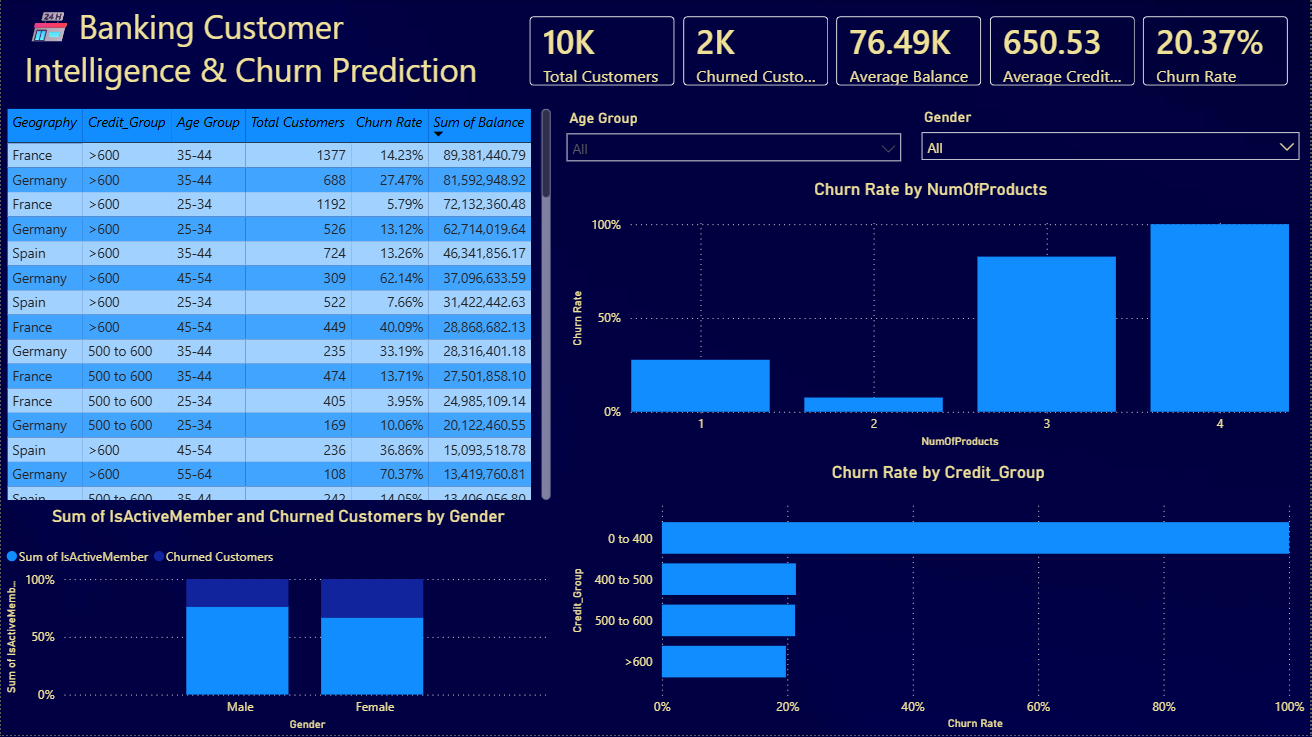

Layout of this report page (visuals, bound fields, positions):
{"tool":"powerbi","page":{"name":"Dashboard2","canvas":[1280,720],"ordinal":5},"visuals":[{"type":"cardVisual","fields":{"Data":["Churn_Modelling.Total Customers","Churn_Modelling.Churned Customers","Churn_Modelling.Average Balance","Churn_Modelling.Average Credit Score","Churn_Modelling.Churn Rate"]},"box":[500.1,0,780.2,102.7],"z":0},{"type":"slicer","fields":{"Values":["Churn_Modelling.Age Group"]},"box":[542.5,102.5,347.5,62.5],"z":1000},{"type":"slicer","fields":{"Values":["Churn_Modelling.Gender"]},"box":[890,101.2,390.1,63.6],"z":2000},{"type":"textbox","box":[18.3,0,470.8,165.1],"z":3000},{"type":"barChart","fields":{"Category":["Churn_Modelling.Credit_Group"],"Y":["Churn_Modelling.Churn Rate"]},"box":[553.8,452.5,726.2,267.5],"z":4000},{"type":"columnChart","fields":{"Category":["Churn_Modelling.NumOfProducts"],"Y":["Churn_Modelling.Churn Rate"]},"box":[553.8,176.2,711.2,267.5],"z":5000},{"type":"tableEx","fields":{"Values":["Churn_Modelling.Geography","Churn_Modelling.Credit_Group","Churn_Modelling.Age Group","Churn_Modelling.Total Customers","Churn_Modelling.Churn Rate","Sum(Churn_Modelling.Balance)"]},"box":[0,102.5,542.5,392.5],"z":6001},{"type":"hundredPercentStackedColumnChart","fields":{"Category":["Churn_Modelling.Gender"],"Y":["Sum(Churn_Modelling.IsActiveMember)","Churn_Modelling.Churned Customers"]},"box":[0,495,542.5,225],"z":6002}]}

Visuals, with their boxes in screenshot pixels (x1, y1, x2, y2), scaled from the page's 1280x720 canvas onto the 1312x737 screenshot:
cardVisual - Churn_Modelling.Total Customers x Churn_Modelling.Churned Customers: {"left": 513, "top": 0, "right": 1311, "bottom": 105}
slicer - Churn_Modelling.Age Group: {"left": 556, "top": 105, "right": 912, "bottom": 169}
slicer - Churn_Modelling.Gender: {"left": 912, "top": 104, "right": 1311, "bottom": 169}
textbox: {"left": 19, "top": 0, "right": 501, "bottom": 169}
barChart - Churn_Modelling.Credit_Group x Churn_Modelling.Churn Rate: {"left": 568, "top": 463, "right": 1311, "bottom": 736}
columnChart - Churn_Modelling.NumOfProducts x Churn_Modelling.Churn Rate: {"left": 568, "top": 180, "right": 1297, "bottom": 454}
tableEx - Churn_Modelling.Geography x Churn_Modelling.Credit_Group: {"left": 0, "top": 105, "right": 556, "bottom": 507}
hundredPercentStackedColumnChart - Churn_Modelling.Gender x Sum(Churn_Modelling.IsActiveMember): {"left": 0, "top": 507, "right": 556, "bottom": 736}
